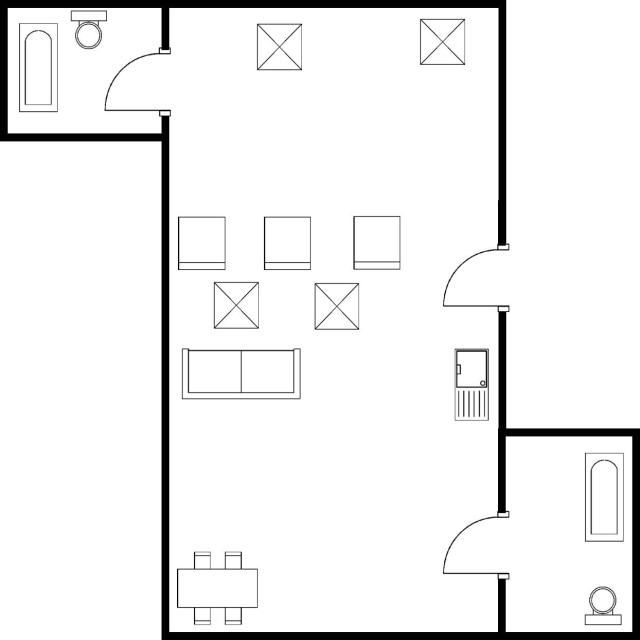coffee_table: (416, 14, 470, 70), (210, 276, 264, 331), (254, 19, 306, 75), (310, 278, 361, 334)
dining_table: (173, 546, 265, 628)
large_sink: (580, 582, 625, 628), (66, 8, 112, 52)
large_sofa: (179, 345, 304, 401)
sink: (451, 345, 491, 425)
small_sofa: (350, 211, 405, 276), (259, 212, 315, 275), (174, 212, 229, 273)
tub: (578, 446, 626, 546), (15, 19, 62, 115)
